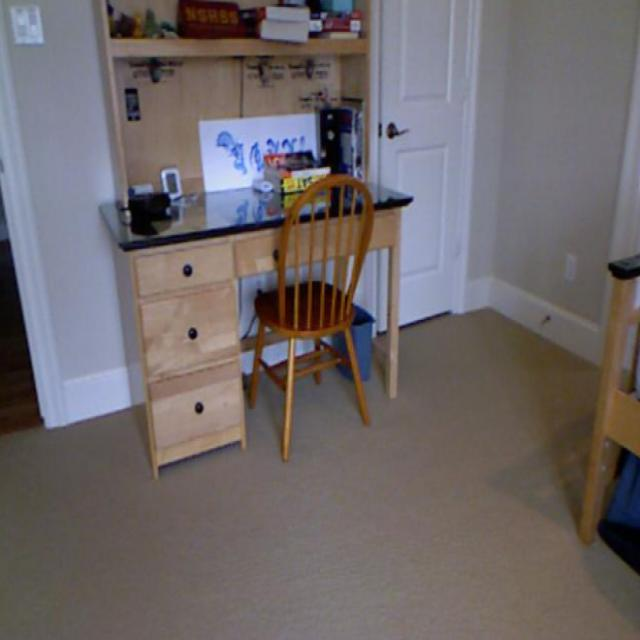Handle: (389, 114, 419, 158)
chair: (272, 181, 382, 430)
desk: (116, 166, 410, 373)
door: (383, 11, 472, 348)
